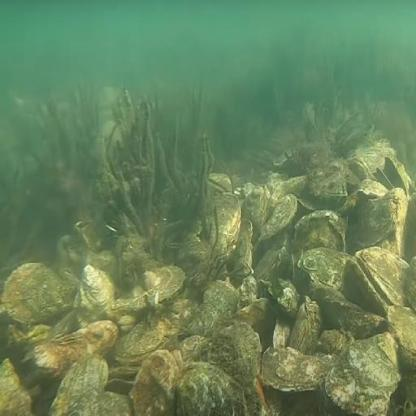Oyster- Indeterminate: (345, 157, 374, 183)
Oyster-Closed: (329, 332, 401, 415), (179, 321, 260, 390), (35, 321, 120, 378), (294, 214, 346, 299), (6, 263, 81, 321), (175, 363, 252, 416), (45, 355, 110, 416), (315, 289, 391, 341), (262, 344, 333, 392), (356, 246, 412, 302), (134, 351, 181, 416), (348, 193, 400, 249), (186, 279, 236, 335), (343, 257, 386, 316), (75, 269, 116, 329), (112, 315, 164, 362), (206, 194, 240, 260), (300, 248, 351, 290), (292, 293, 321, 358), (261, 193, 299, 242), (309, 160, 347, 207), (241, 185, 269, 247), (231, 213, 254, 283), (146, 262, 184, 304), (270, 172, 310, 211), (75, 390, 134, 416), (386, 305, 416, 355), (348, 145, 395, 172)
Oyster-Open: (375, 156, 411, 197), (106, 364, 139, 392)
